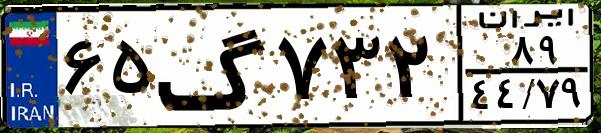2: (385, 28, 445, 110)
3: (330, 28, 385, 110)
4: (470, 70, 495, 125), (495, 70, 520, 125)
5: (110, 28, 156, 98)
6: (57, 26, 110, 100)
7: (270, 28, 330, 110), (535, 70, 560, 125)
8: (508, 27, 537, 80)
9: (560, 70, 590, 125), (537, 27, 568, 80)
گ: (156, 12, 270, 120)
